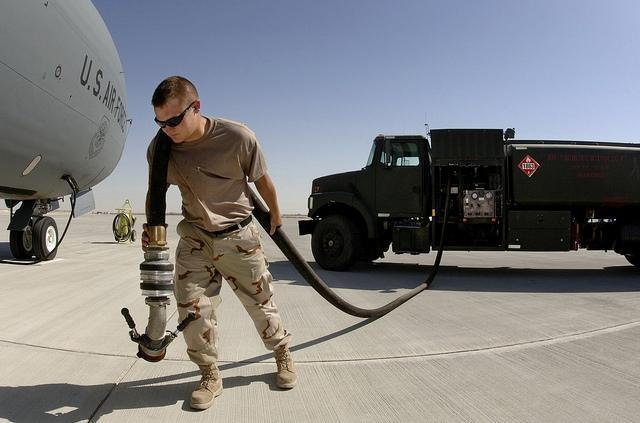truck: (299, 128, 640, 274)
